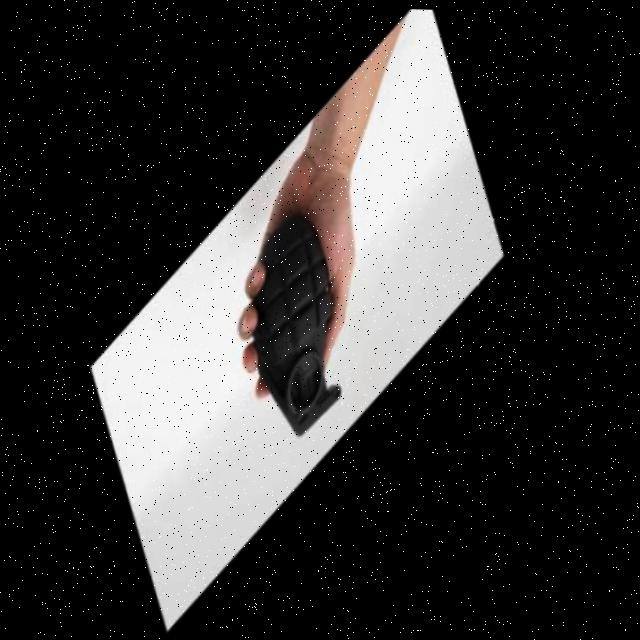grenade: (206, 200, 404, 452)
